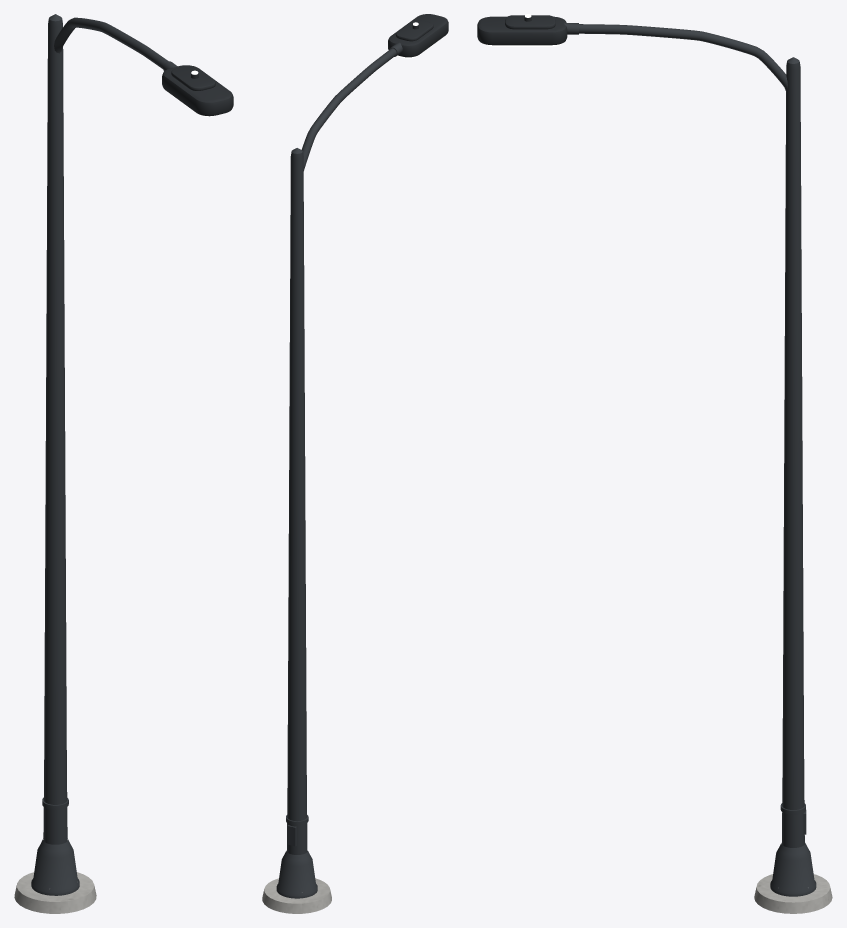
The model's file is street-light.glb.
3 views of the same model, side by side, from view 1: azimuth 30°, elevation 25°; view 2: azimuth 150°, elevation 25°; view 3: azimuth 270°, elevation 25° (orthographic). The views are drawn at different scales.
Visible parts, largest first — view 1: Street_Light; view 2: Street_Light; view 3: Street_Light.
Boxes of the visible parts, bbox=[...] form: Street_Light: bbox=[14, 14, 233, 913]; Street_Light: bbox=[262, 14, 448, 913]; Street_Light: bbox=[477, 14, 832, 913].
Bounding box in the file's own units: 0.68 × 8.44 × 3.08.
Materials: 5 (1 with a texture image).
